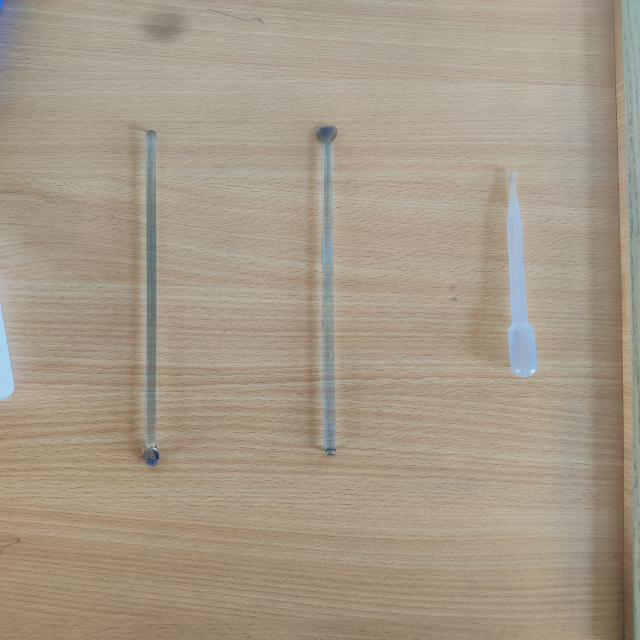Glass_Rod: (101, 110, 205, 488), (295, 106, 384, 473)
Pipette: (474, 165, 569, 389)
